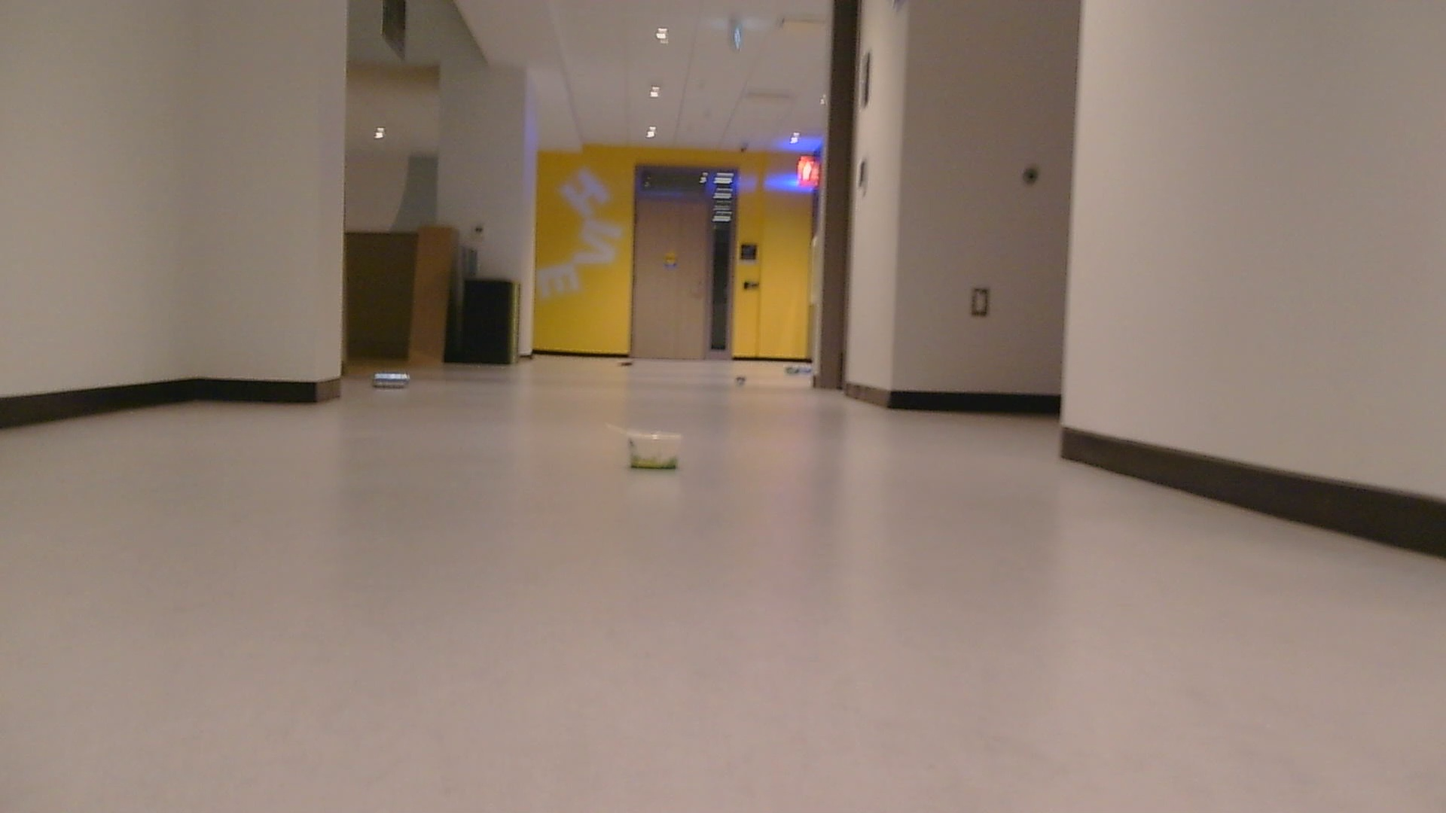carton: (631, 429, 688, 470), (366, 367, 420, 391), (783, 361, 819, 378), (618, 352, 633, 366), (728, 370, 742, 384)
